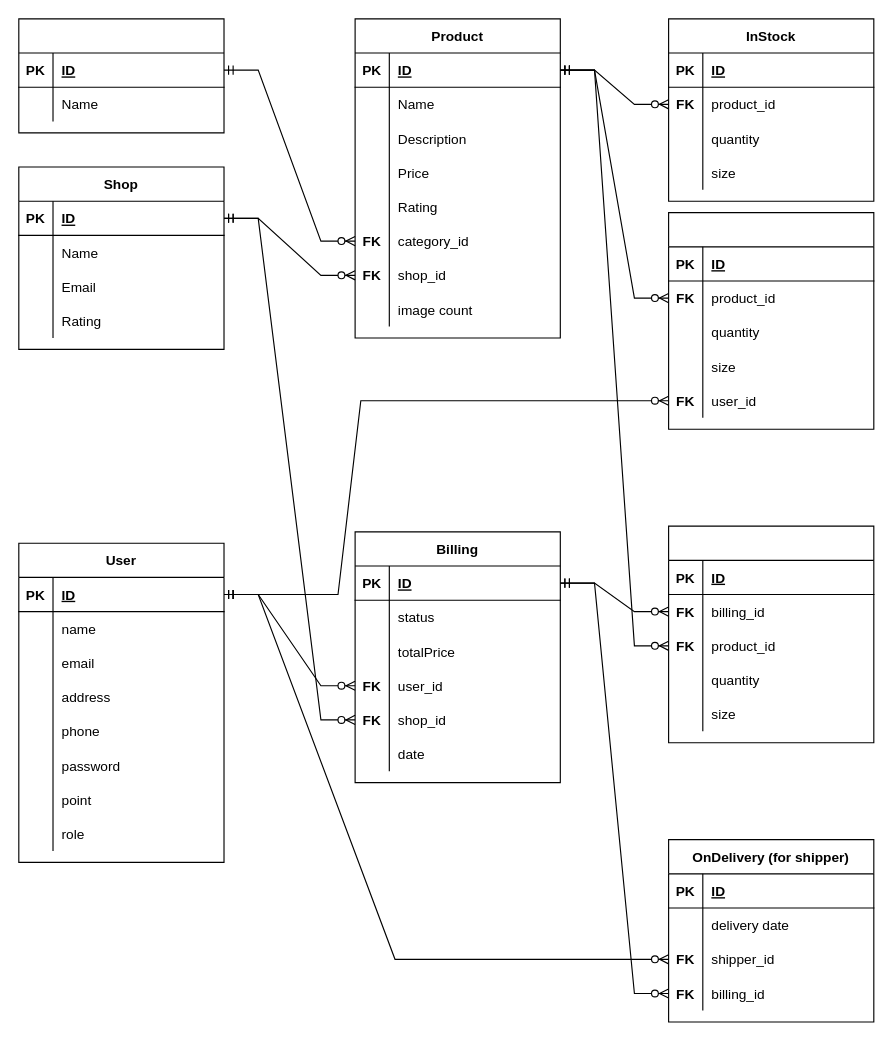
The diagram is 893 pixels wide and 1041 high, and some of its shapes have lost their labels. Each missing label, with the box of its shape:
BillingProduct: (667, 525, 874, 743)
Category: (18, 18, 224, 133)
InCart: (667, 211, 874, 429)
